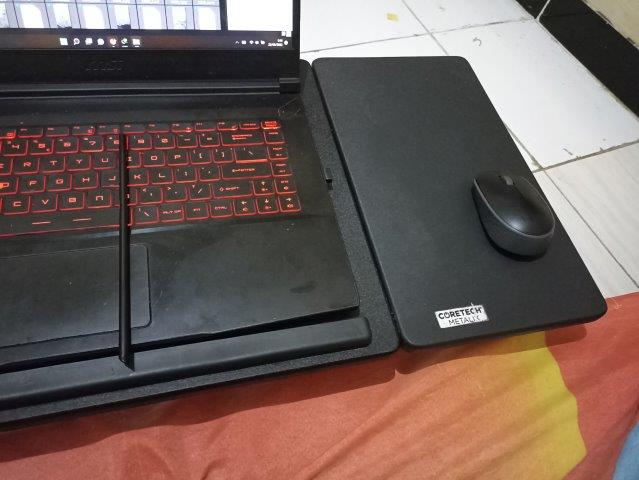sedotan: (119, 134, 129, 362)
